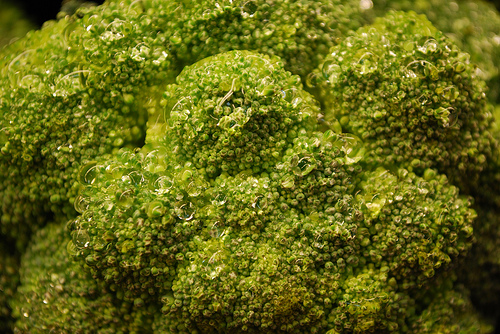broccoli: (1, 2, 498, 332)
